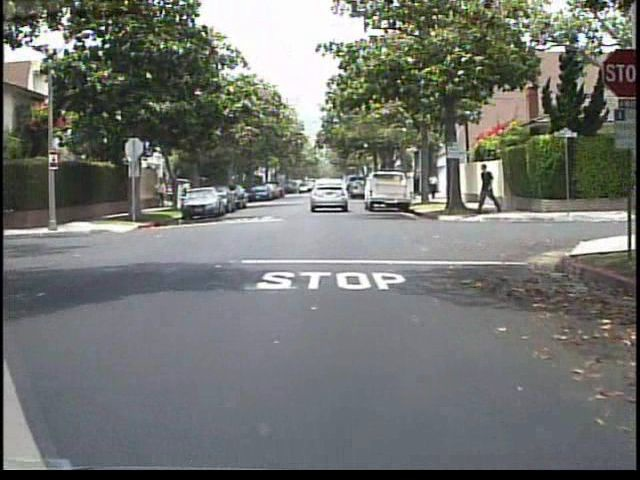person: (476, 160, 504, 218), (425, 168, 442, 202), (155, 178, 173, 208), (179, 176, 195, 208)
